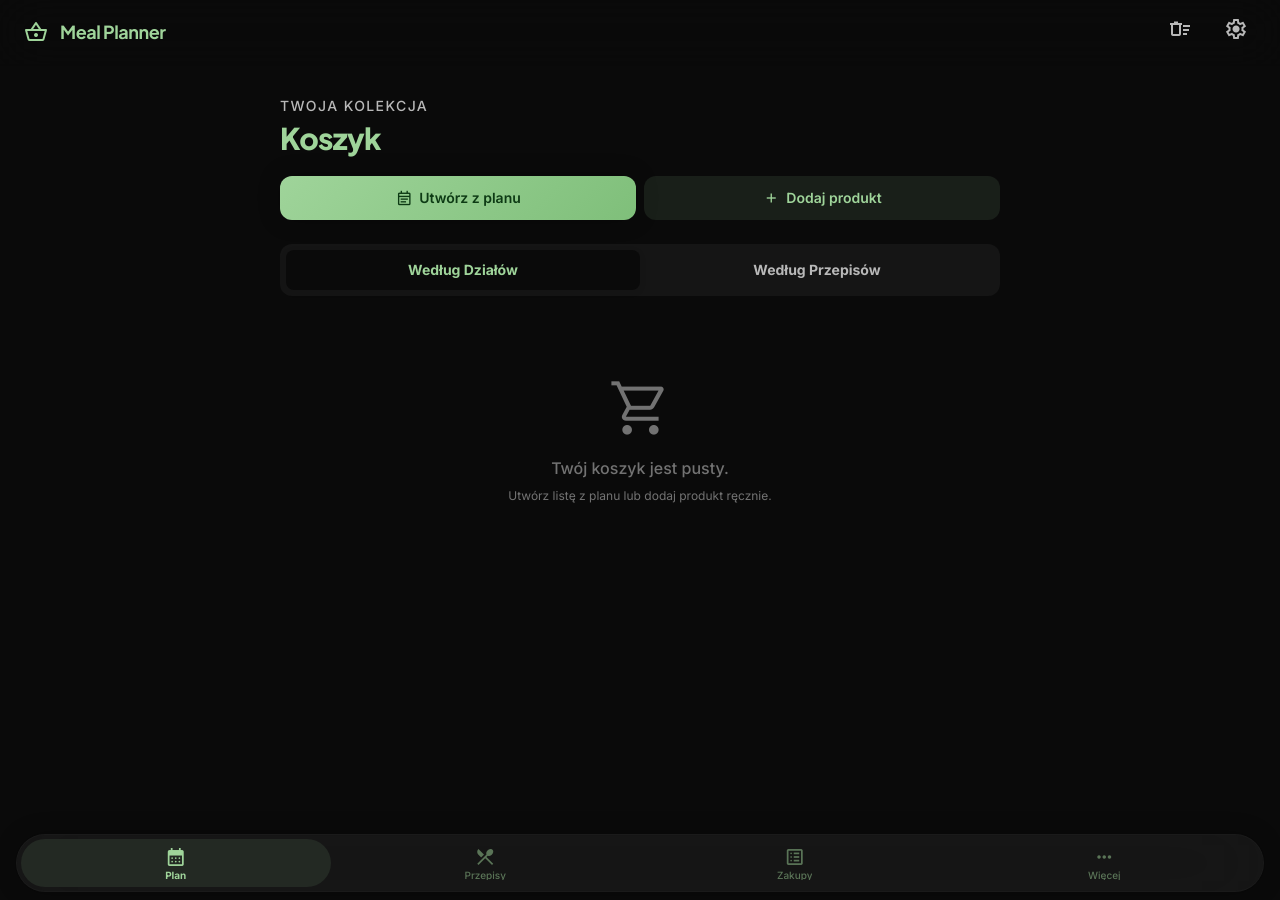
Scenario: ShoppingList create from plan › explains in the picker when the result is no-recipes
The width and height of the screenshot is (1280, 900).
Click the button "Utwórz z planu": {"x": 458, "y": 198} [280,176,636,220]
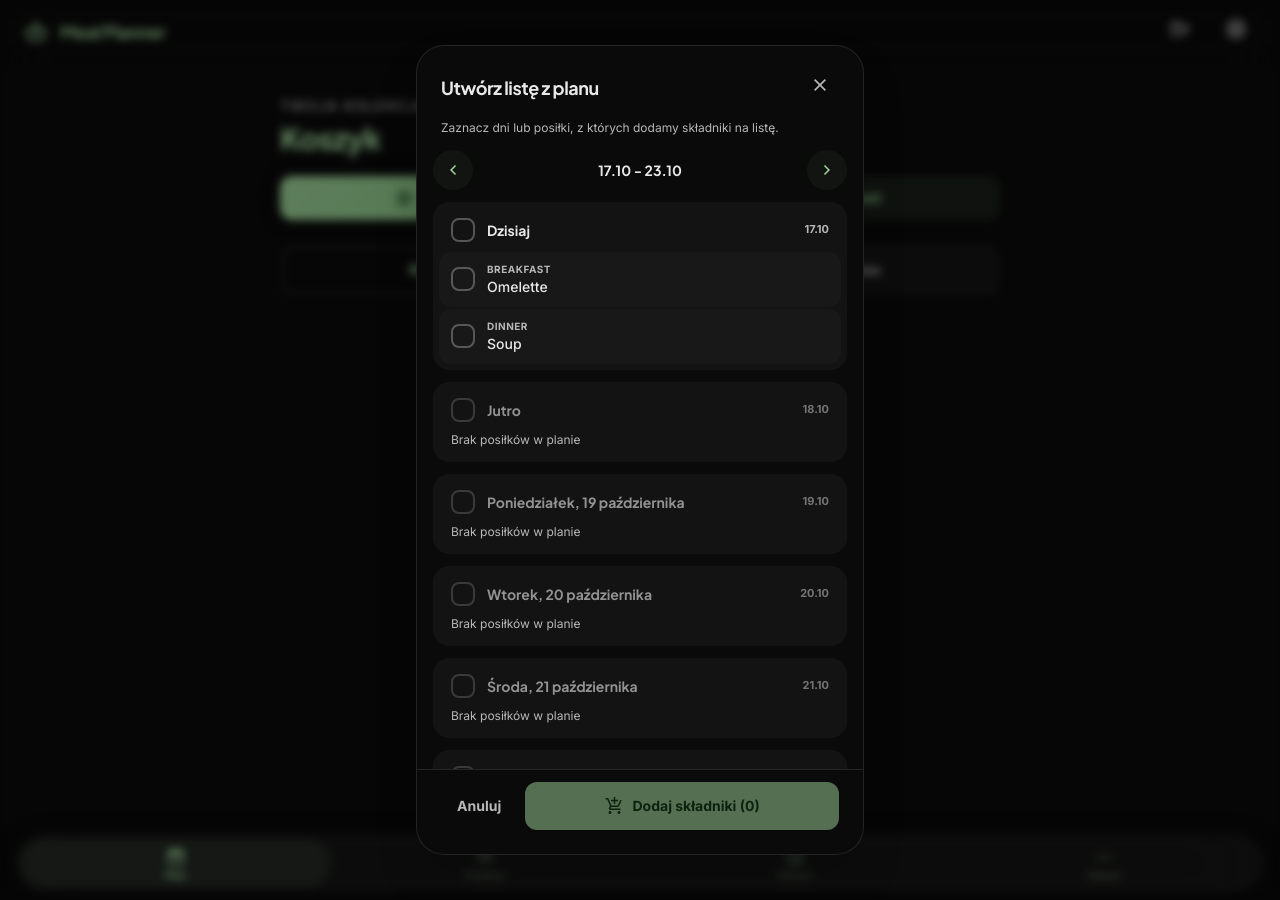
Click the checkbox labelled "Dzisiaj 17.10": {"x": 508, "y": 230} [439,208,841,252]
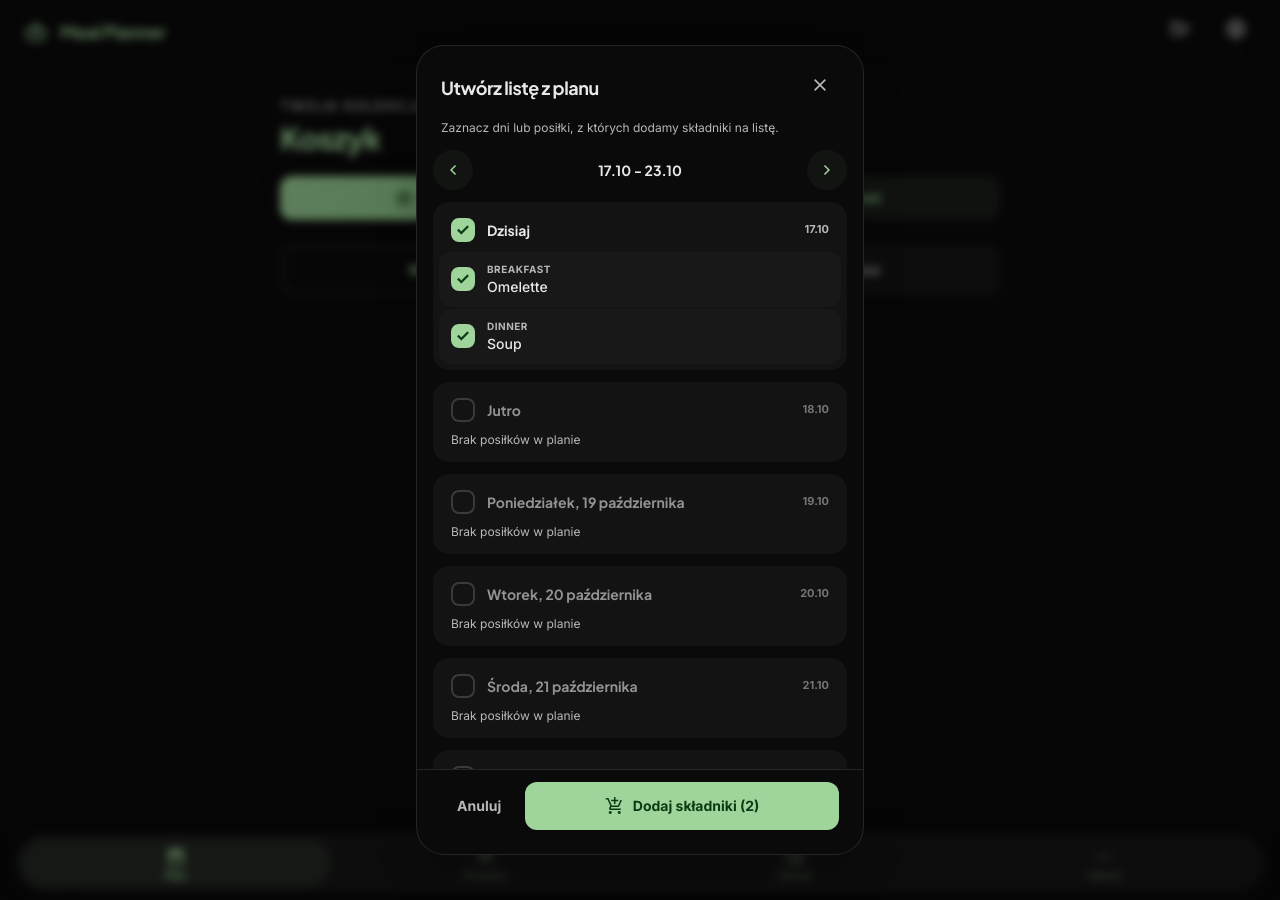
Click the button "Dodaj składniki (2)": {"x": 682, "y": 806} [525,782,839,830]
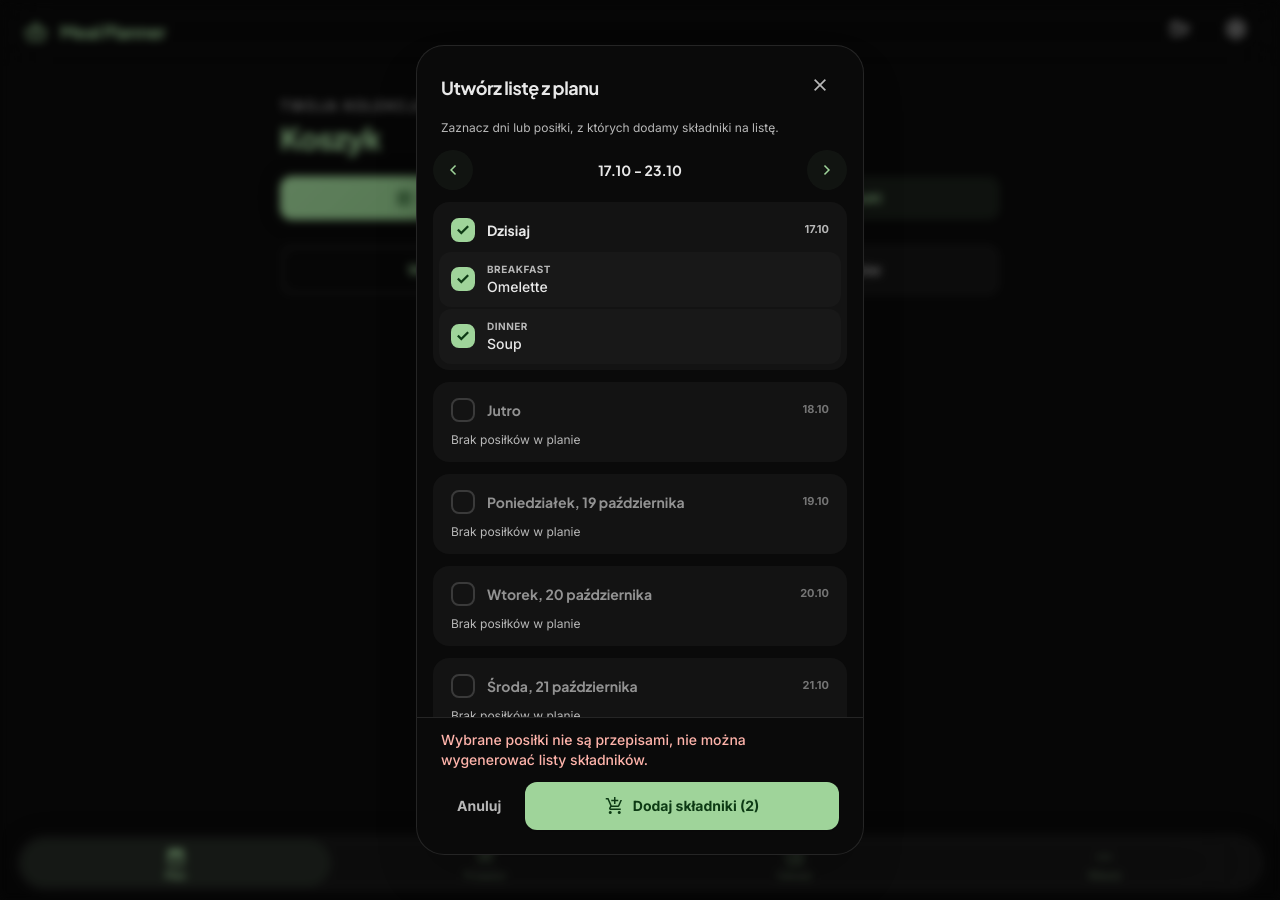
Check: the dialog is shown, box [416,45,864,855]
Check: the text "Wybrane posiłki nie są przepisami, nie można wygenerować listy składników." is shown, box [441,731,746,768]
